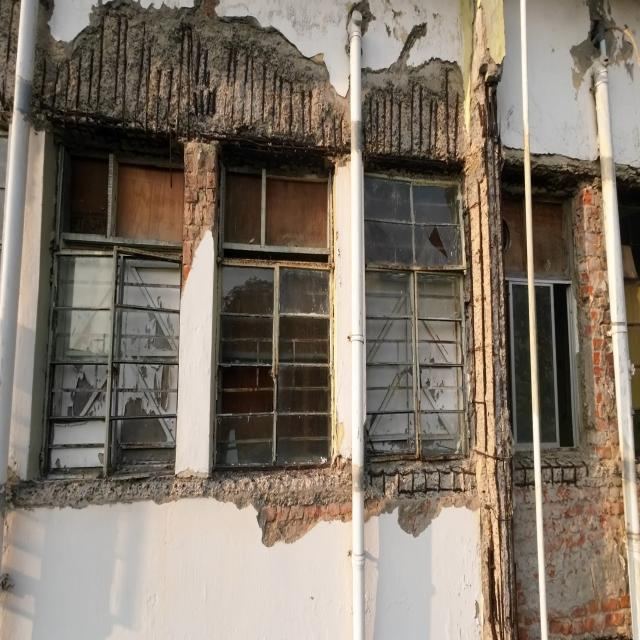spalling: (513, 158, 636, 639), (33, 4, 349, 154), (464, 4, 518, 639), (8, 458, 351, 546), (543, 453, 631, 639), (363, 60, 461, 165), (366, 457, 477, 521), (364, 76, 434, 159), (514, 453, 540, 639), (544, 452, 590, 486)
